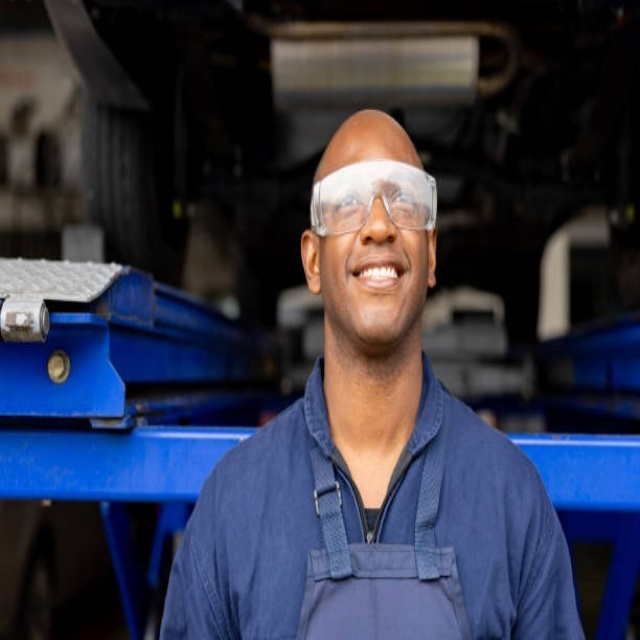Gafas: (309, 160, 438, 236)
Sin_mascara: (344, 248, 412, 315)
